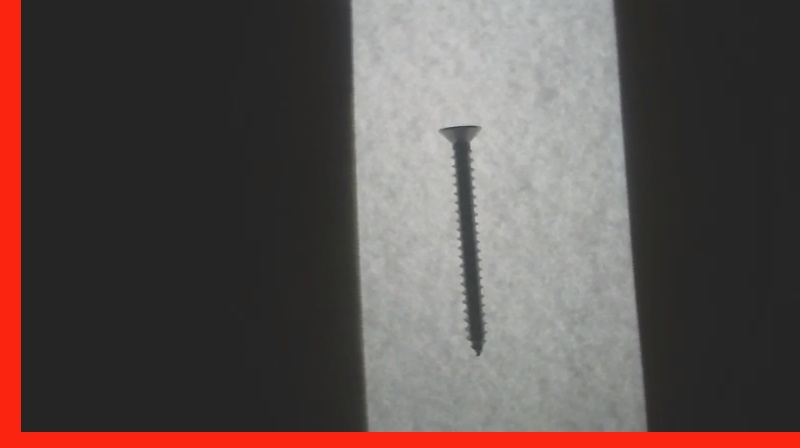S002: (433, 119, 489, 359)
